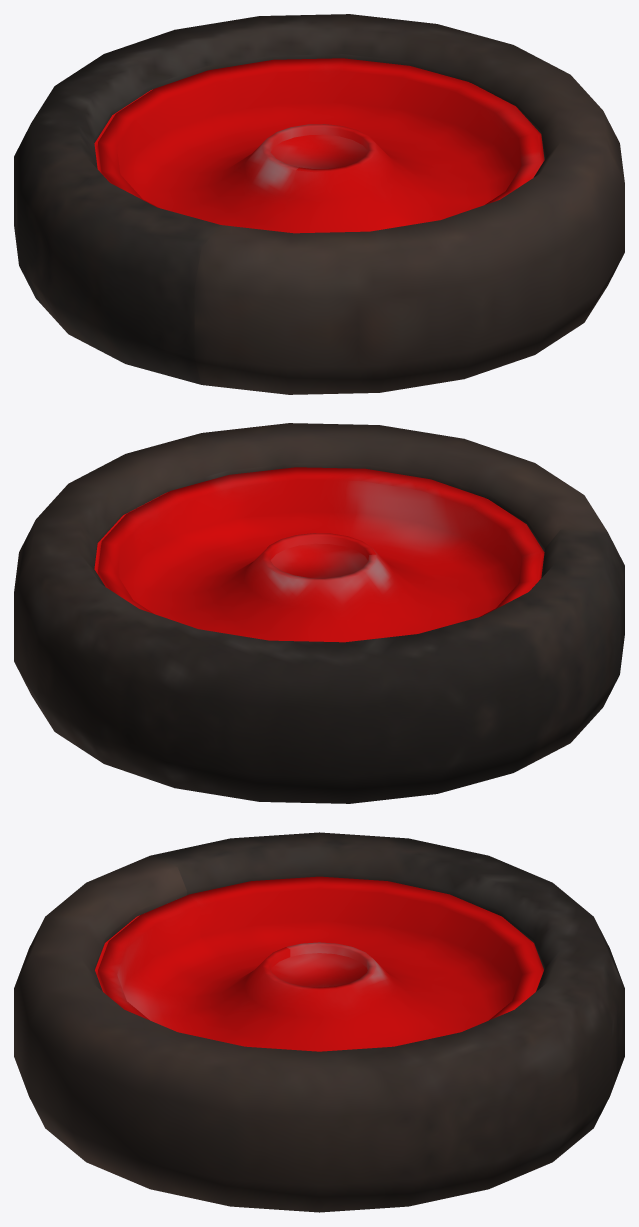
Rendered from wheel barrow wheel.glb.
3 views of the same model, one above another, from view 1: azimuth 30°, elevation 25°; view 2: azimuth 150°, elevation 25°; view 3: azimuth 270°, elevation 25° (orthographic).
Parts seen in each view (by area): view 1: tire.001, hub.001; view 2: tire.001, hub.001; view 3: tire.001, hub.001.
Part boxes in pixels (<box>): tire.001: <box>14,14,624,394</box>; hub.001: <box>94,58,544,233</box>; tire.001: <box>14,423,624,803</box>; hub.001: <box>94,467,544,642</box>; tire.001: <box>14,832,624,1212</box>; hub.001: <box>95,876,543,1051</box>.
Bounding box in the file's own units: 0.3977 × 0.1045 × 0.3977.
Materials: 1 (1 with a texture image).
